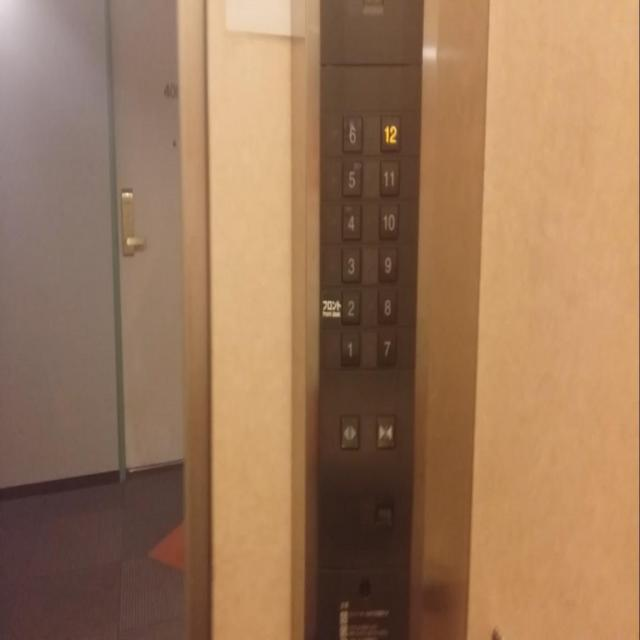1: (339, 328, 361, 370)
10: (376, 201, 399, 241)
11: (377, 157, 401, 198)
12: (379, 112, 402, 154)
2: (339, 286, 361, 326)
3: (339, 243, 363, 284)
4: (340, 199, 362, 243)
5: (341, 158, 363, 198)
6: (341, 110, 364, 156)
7: (375, 327, 398, 368)
8: (376, 283, 398, 325)
9: (376, 243, 398, 284)
close: (373, 409, 397, 452)
open: (339, 410, 360, 452)
